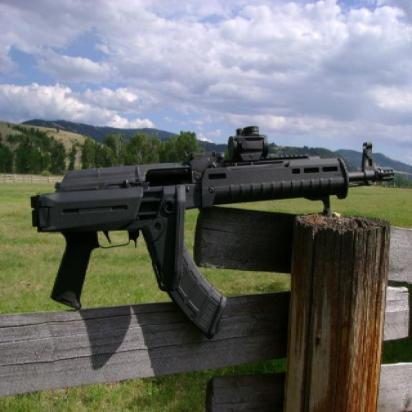Gun: (15, 127, 396, 337)
